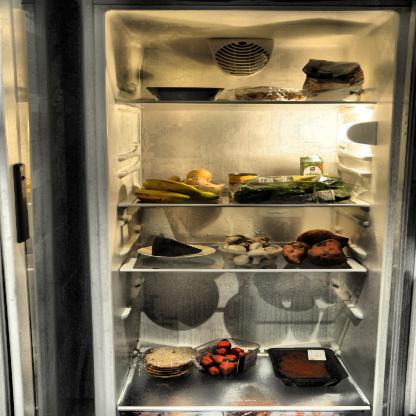banana: (134, 179, 218, 207)
beef: (274, 348, 339, 379)
cheese: (148, 238, 210, 258)
corn: (228, 173, 256, 199)
heavy_cream: (299, 153, 324, 184)
mushrooms: (219, 233, 283, 266)
potato: (180, 169, 220, 187)
shrimp: (235, 88, 306, 102)
spinach: (235, 175, 360, 202)
strawberries: (200, 339, 251, 375)
sweet_potato: (282, 228, 356, 268)
